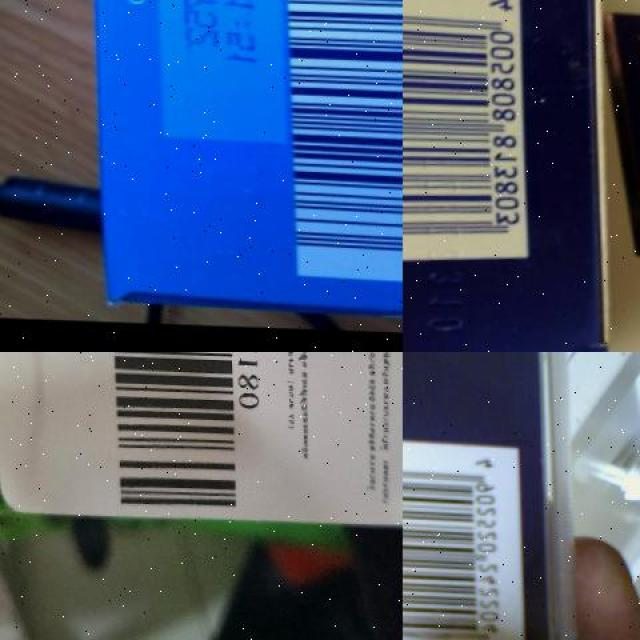Barcode: (402, 0, 526, 271), (281, 0, 402, 277), (90, 352, 266, 516), (403, 428, 520, 640)
